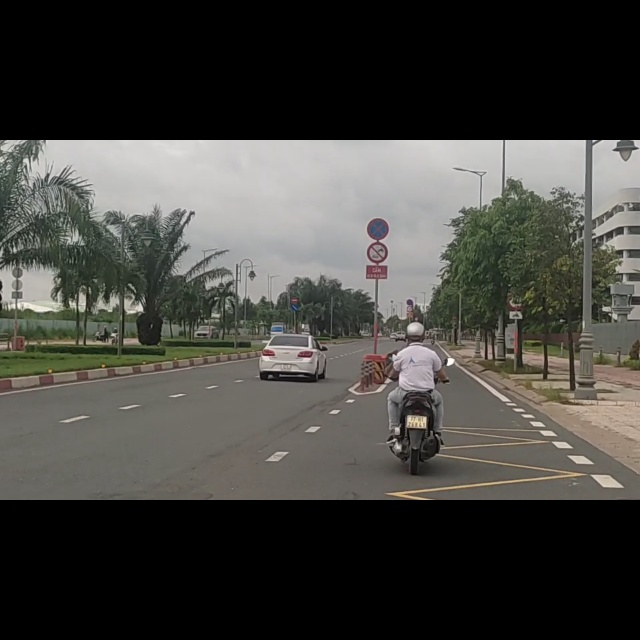bien_hieu_lenh: (365, 134, 390, 179), (366, 180, 389, 219)
